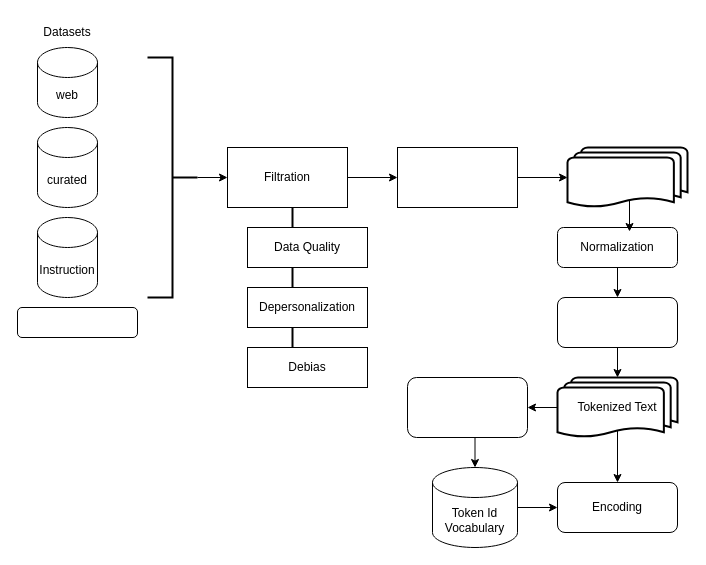
Some shapes in this 706 by 565 pixel diagram are drawn without their labels. Each missing label, with the centre of its shape:
cleaned up text: point 627,177
Deduplication: point 457,177
Diversification: point 77,322
Pretokenization: point 617,322
Vocabulary Building: point 467,407
